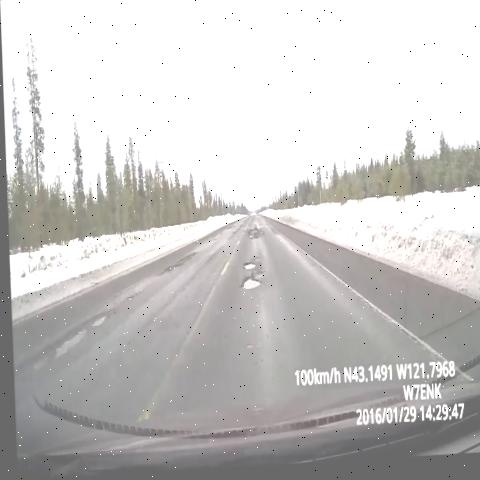pothole: (12, 301, 129, 396), (149, 246, 205, 288), (236, 252, 261, 279), (235, 275, 263, 299), (240, 228, 263, 251)
